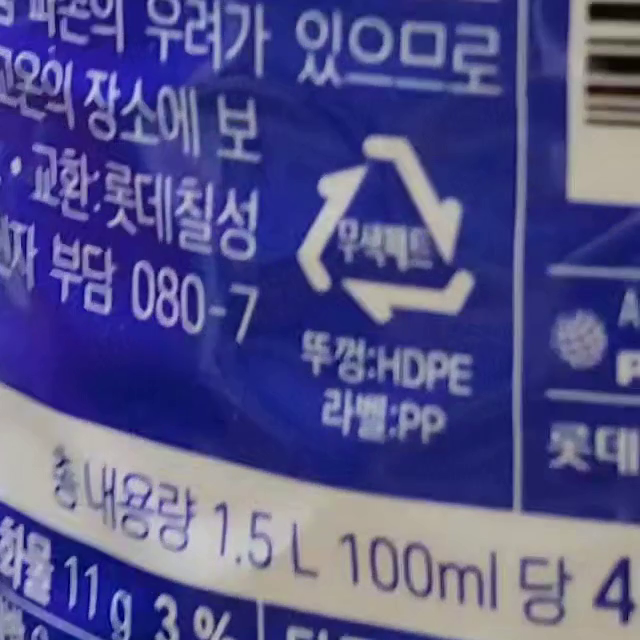ColorlessPet: (300, 136, 475, 324)
